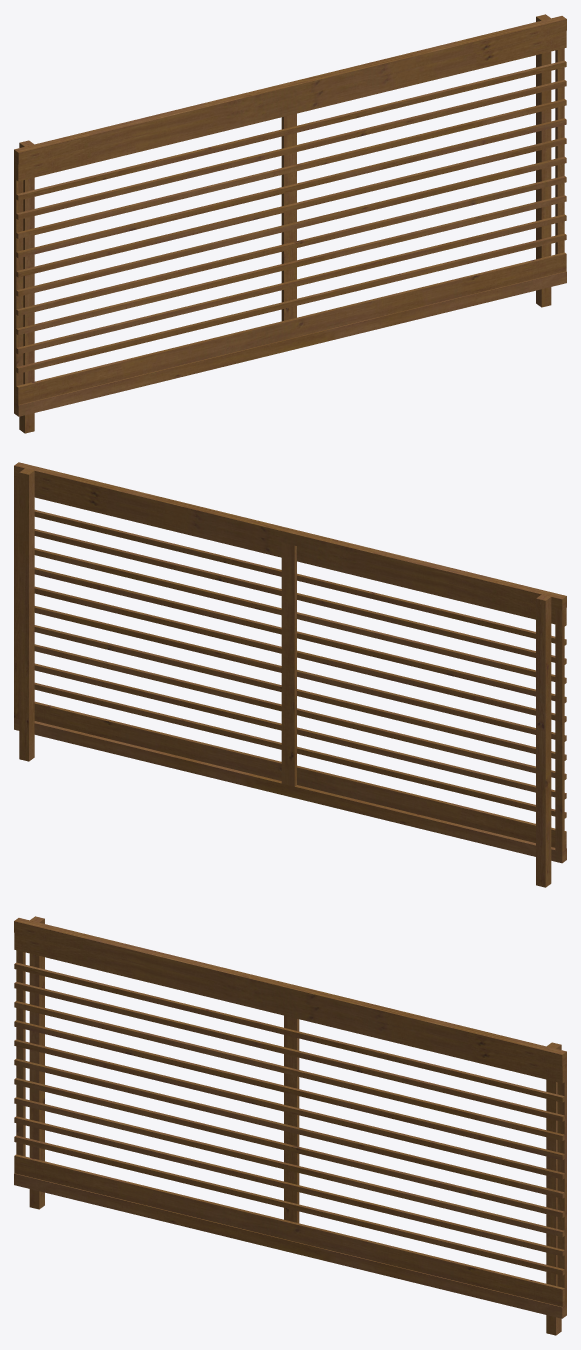
Rendered from EAFyokoitagoushi_w1998-h920_naturalpine.fbx.
The picture shows the model from 3 angles, top to bottom: view 1: azimuth 30°, elevation 25°; view 2: azimuth 150°, elevation 25°; view 3: azimuth 330°, elevation 25°; orthographic projection.
Parts seen in each view (by area): view 1: EAFyokoitagoushi_w1998-h920_naturalpine; view 2: EAFyokoitagoushi_w1998-h920_naturalpine; view 3: EAFyokoitagoushi_w1998-h920_naturalpine.
Boxes of the visible parts, x1,y1,x2,y2 form: EAFyokoitagoushi_w1998-h920_naturalpine: [14, 14, 566, 433]; EAFyokoitagoushi_w1998-h920_naturalpine: [14, 462, 566, 887]; EAFyokoitagoushi_w1998-h920_naturalpine: [14, 916, 566, 1335].
Bounding box in the file's own units: 200 × 100 × 6.5.
1 material, 1 textured.
